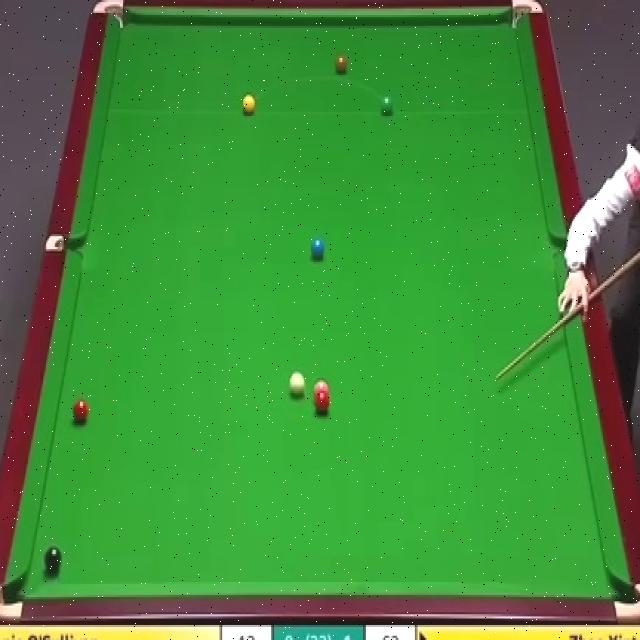black-ball: (44, 546, 62, 574)
blue-ball: (310, 236, 326, 258)
brown-ball: (334, 54, 348, 77)
green-ball: (379, 93, 394, 116)
pink-ball: (312, 380, 330, 391)
red-ball: (72, 398, 90, 426), (314, 393, 329, 416)
white-ball: (286, 370, 306, 397)
yellow-ball: (242, 95, 256, 116)
